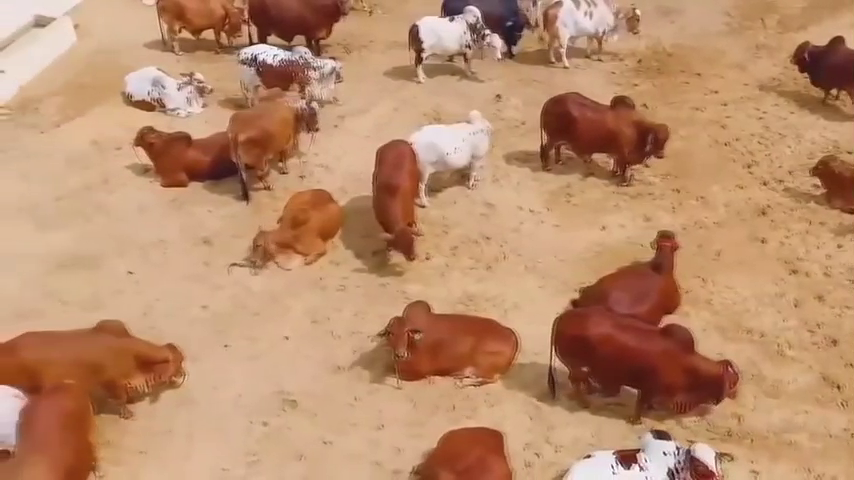bo: (540, 296, 746, 427), (9, 309, 202, 429), (515, 77, 675, 183), (372, 292, 526, 391), (549, 417, 742, 480), (575, 233, 699, 329), (225, 89, 325, 192), (388, 403, 524, 478), (239, 185, 348, 276), (20, 377, 115, 480), (402, 102, 490, 205), (361, 129, 429, 262), (230, 38, 347, 113), (398, 1, 507, 81), (130, 116, 234, 194), (543, 1, 650, 75), (112, 58, 216, 124), (148, 2, 248, 69), (246, 1, 362, 58), (438, 1, 537, 63), (785, 30, 854, 106), (797, 138, 846, 202)
